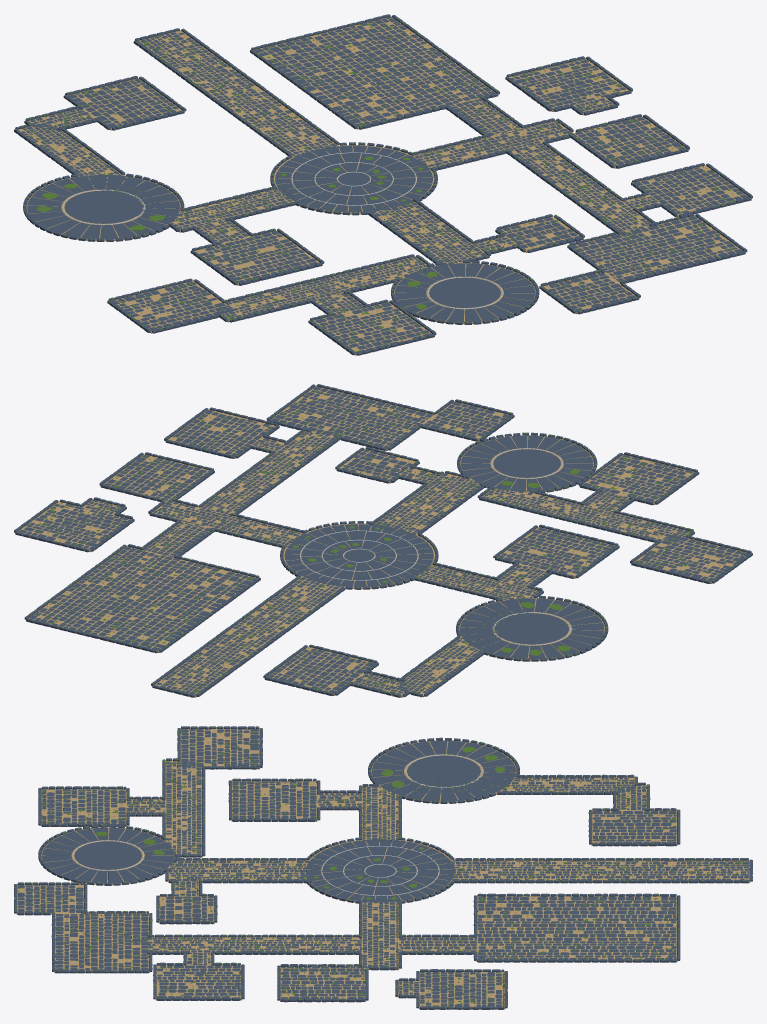
The model's file is Sol_P1.fbx.
3 renders of one model, top to bottom at view 1: azimuth 30°, elevation 25°; view 2: azimuth 150°, elevation 25°; view 3: azimuth 270°, elevation 25°, orthographic. The views are drawn at different scales.
Visible parts, largest first — view 1: Socle_Quartier_Artisanal_Pierre_1, Place_Centrale_Pierre, Socle_Faille_Pierre, Socle_Invocation_Pierre, Socle_Quartier_Artisanal_Terre, Socle_Entrainement_Pierre, Avenue_Sud_Pierre_1, Avenue_Sud_Terre, Allee_Invocation_Admin_Pierre, Socle_Salle_Magie_Pierre, Allee_Logements_Pierre, Socle_Quartier_Artisanal_Pierre_2 (+40 smaller); view 2: Socle_Quartier_Artisanal_Pierre_1, Place_Centrale_Pierre, Socle_Faille_Pierre, Socle_Invocation_Pierre, Socle_Quartier_Artisanal_Terre, Socle_Entrainement_Pierre, Avenue_Sud_Pierre_1, Avenue_Sud_Terre, Allee_Invocation_Admin_Pierre, Socle_Salle_Magie_Pierre, Allee_Logements_Pierre, Socle_Quartier_Artisanal_Pierre_2 (+40 smaller); view 3: Socle_Quartier_Artisanal_Pierre_1, Place_Centrale_Pierre, Socle_Faille_Pierre, Socle_Invocation_Pierre, Socle_Quartier_Artisanal_Terre, Socle_Entrainement_Pierre, Avenue_Sud_Pierre_1, Avenue_Sud_Terre, Allee_Logements_Pierre, Socle_Salle_Magie_Pierre, Socle_Quartier_Artisanal_Pierre_2, Allee_Invocation_Admin_Pierre (+40 smaller).
Boxes of the visible parts, x1,y1,x2,y2 form: Socle_Quartier_Artisanal_Pierre_1: (277,17,494,122); Place_Centrale_Pierre: (270,142,437,215); Socle_Faille_Pierre: (23,173,184,241); Socle_Invocation_Pierre: (391,260,539,324); Socle_Quartier_Artisanal_Terre: (254,16,495,129); Socle_Entrainement_Pierre: (567,213,747,283); Avenue_Sud_Pierre_1: (140,32,339,157); Avenue_Sud_Terre: (138,30,339,157); Allee_Invocation_Admin_Pierre: (214,254,432,322); Socle_Salle_Magie_Pierre: (190,228,324,285); Allee_Logements_Pierre: (506,141,657,234); Socle_Quartier_Artisanal_Pierre_2: (250,14,499,129); Socle_Quartier_Artisanal_Pierre_1: (30,546,242,644); Place_Centrale_Pierre: (280,521,438,589); Socle_Faille_Pierre: (456,595,608,661); Socle_Invocation_Pierre: (457,432,597,492); Socle_Quartier_Artisanal_Terre: (29,546,256,652); Socle_Entrainement_Pierre: (266,384,435,450); Avenue_Sud_Pierre_1: (157,575,343,694); Avenue_Sud_Terre: (155,575,344,697); Allee_Invocation_Admin_Pierre: (477,485,694,543); Socle_Salle_Magie_Pierre: (493,524,619,578); Allee_Logements_Pierre: (198,427,341,514); Socle_Quartier_Artisanal_Pierre_2: (24,544,260,653); Socle_Quartier_Artisanal_Pierre_1: (477,903,676,959); Place_Centrale_Pierre: (306,837,454,903); Socle_Faille_Pierre: (368,737,519,803); Socle_Invocation_Pierre: (38,824,177,885); Socle_Quartier_Artisanal_Terre: (476,896,677,961); Socle_Entrainement_Pierre: (51,911,152,973); Avenue_Sud_Pierre_1: (447,860,749,880); Avenue_Sud_Terre: (446,860,750,882); Allee_Logements_Pierre: (147,934,361,954); Socle_Salle_Magie_Pierre: (228,778,320,821); Socle_Quartier_Artisanal_Pierre_2: (473,893,680,962); Allee_Invocation_Admin_Pierre: (162,758,205,857).
Bounding box in the file's own units: 330 × 1.61 × 366.
